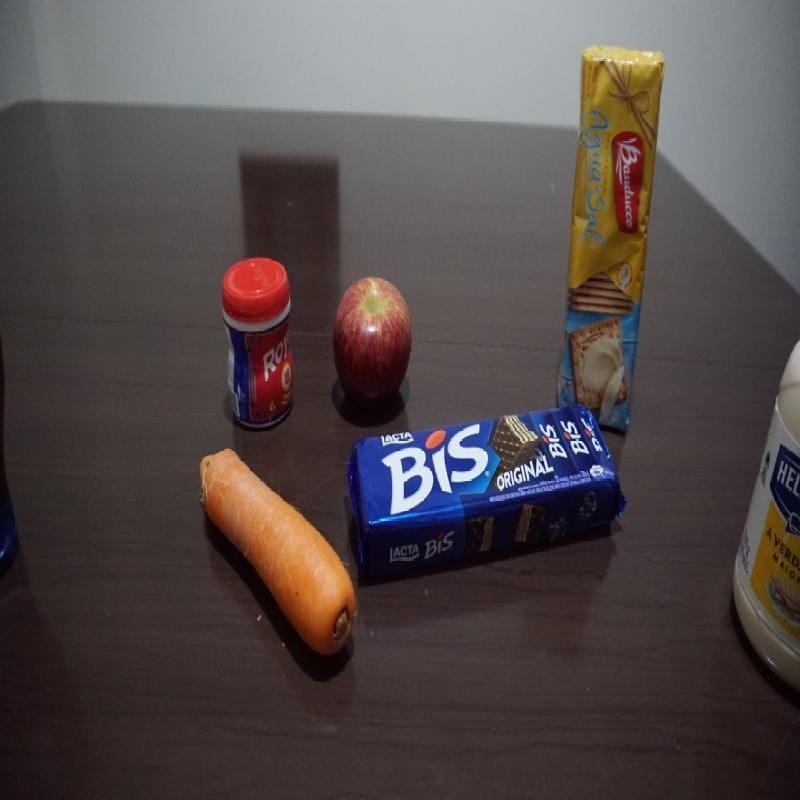Apple: (331, 271, 413, 410)
Carrot: (198, 445, 358, 658)
Cracker: (546, 29, 668, 438)
Ketchup: (0, 334, 20, 578)
Mayonnaise: (728, 321, 800, 700)
Yeast: (218, 255, 296, 430)
